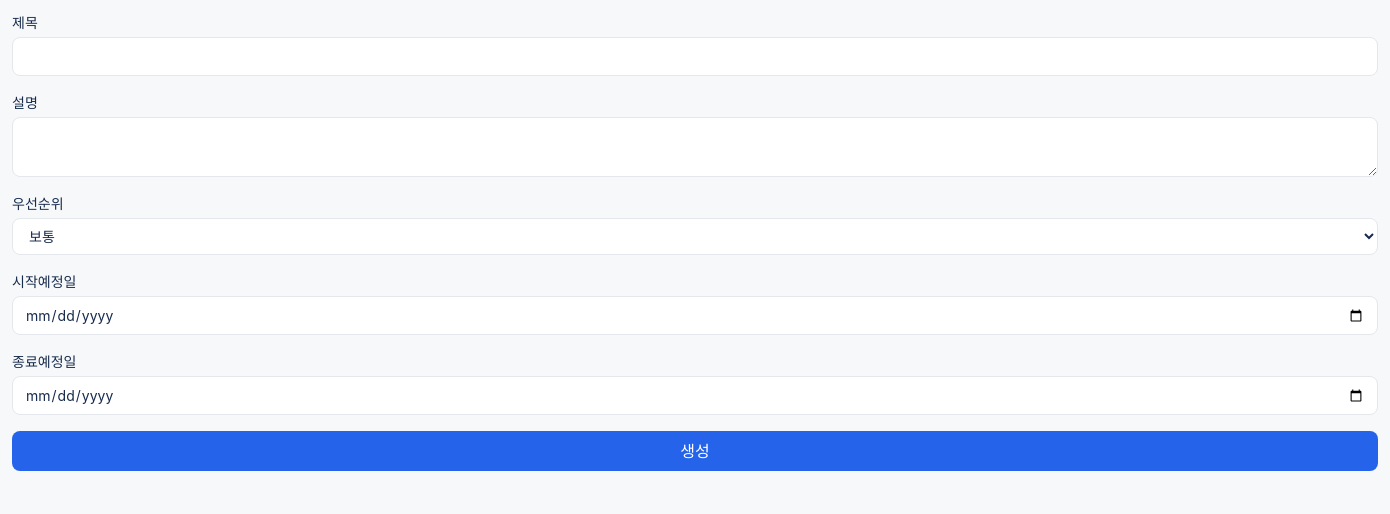
Test case: TicketForm › C004-3: 제목이 비어 있으면 "제목을 입력해주세요" 에러가 표시된다
The image size is (1390, 514).
Click the button "생성". click: x=695, y=451
box: [12,431,1378,471]
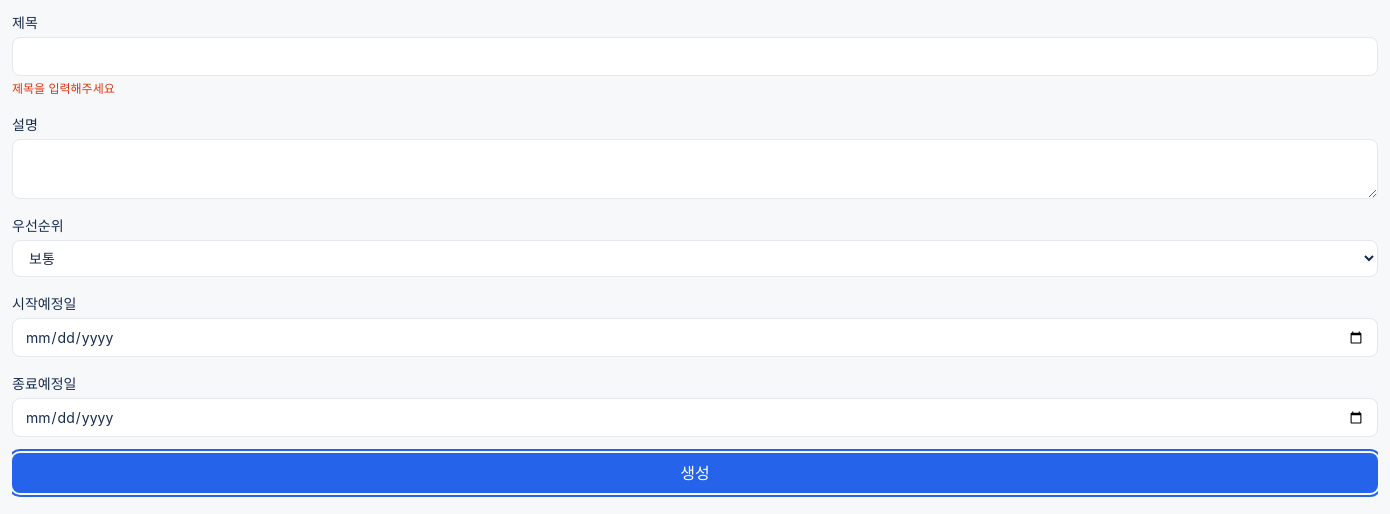
Expected: the text "제목을 입력해주세요" is shown, [12,81,115,96]
